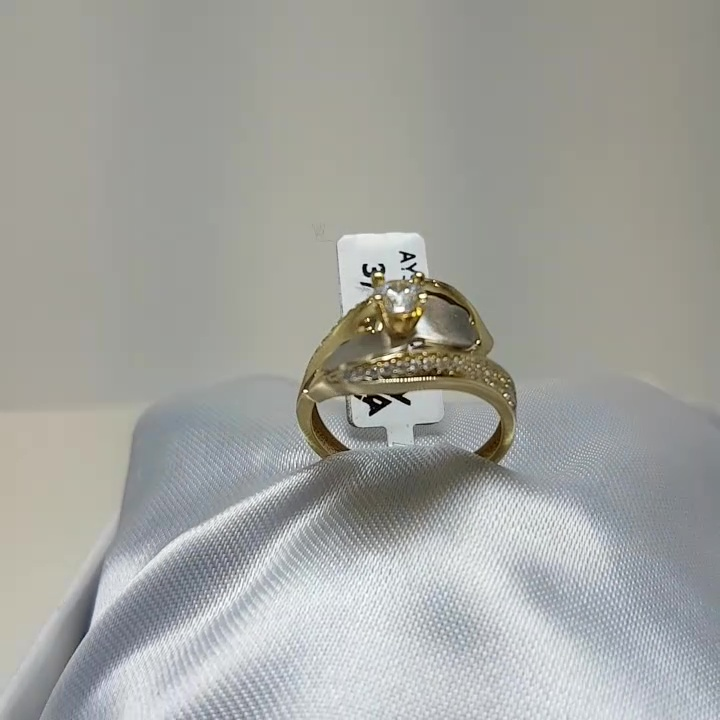Ring 6: (256, 261, 530, 489)
